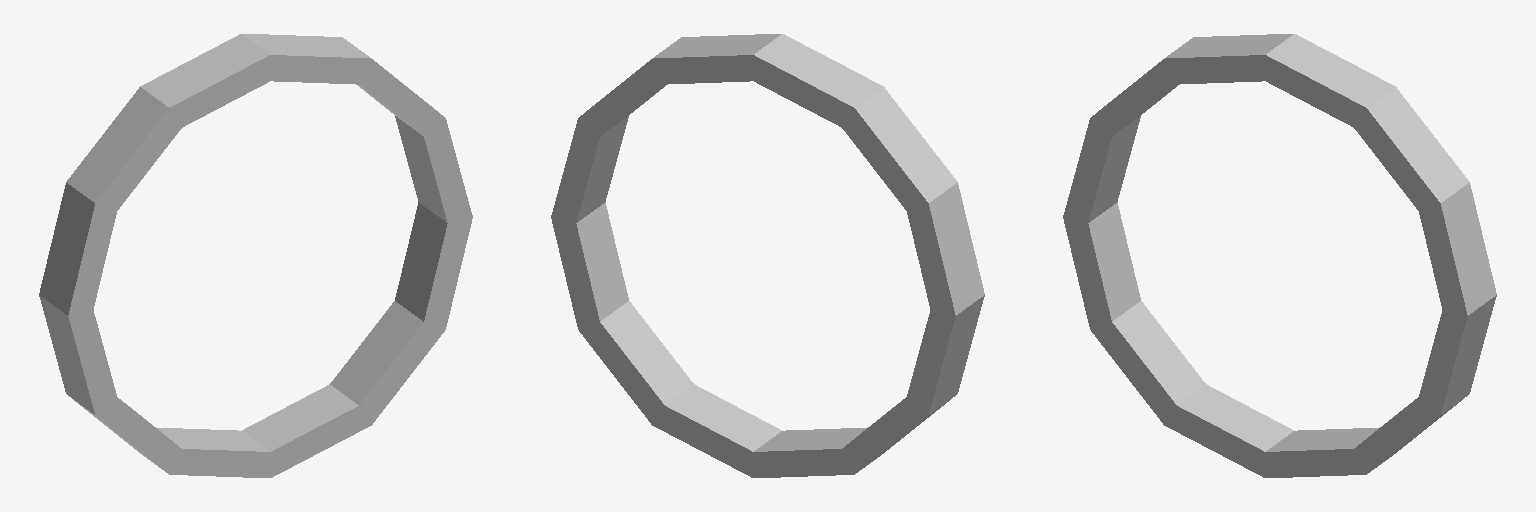
The model's file is gate.obj.
The picture shows the model from 3 angles: view 1: azimuth 30°, elevation 25°; view 2: azimuth 150°, elevation 25°; view 3: azimuth 330°, elevation 25°; orthographic projection.
Parts seen in each view (by area): view 1: tube; view 2: tube; view 3: tube.
Part boxes in pixels (left/top/right/bottom): tube: left=39, top=34, right=472, bottom=477; tube: left=551, top=34, right=984, bottom=477; tube: left=1063, top=34, right=1496, bottom=477.
Size of the model in its own units: 1 by 1 by 0.125.